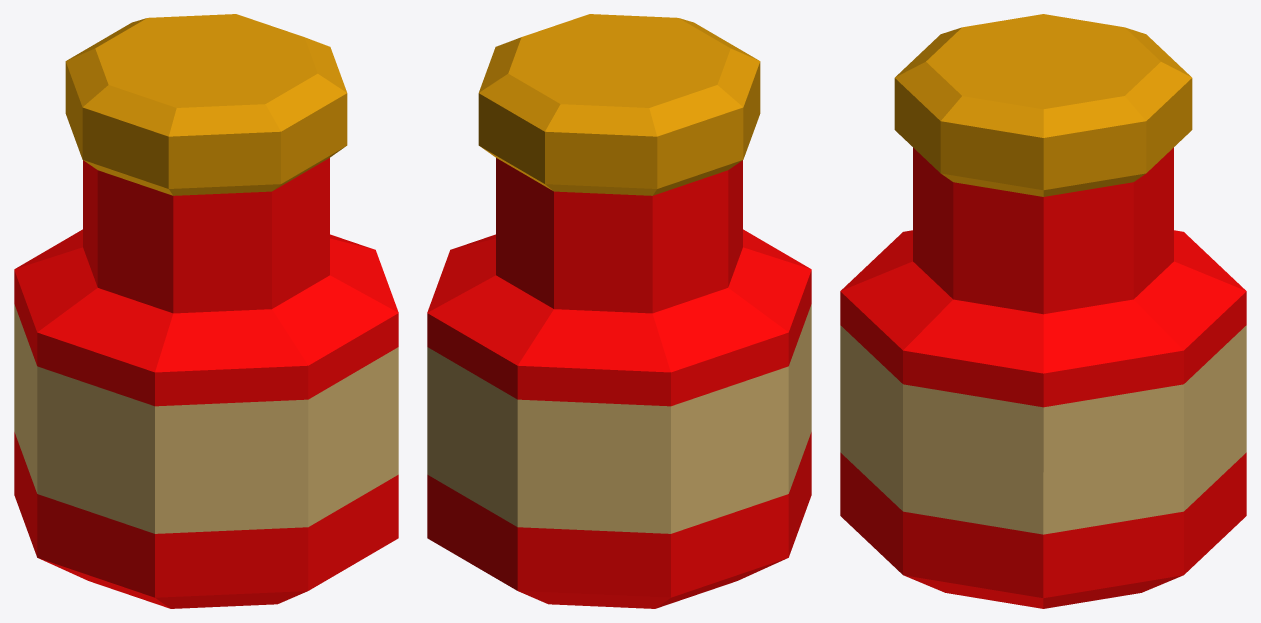
Rendered from RedPotion.fbx.
3 renders of one model, left to right at view 1: azimuth 30°, elevation 25°; view 2: azimuth 150°, elevation 25°; view 3: azimuth 270°, elevation 25°, orthographic.
Visible parts, largest first — view 1: Cube; view 2: Cube; view 3: Cube.
Boxes of the visible parts, x1,y1,x2,y2 form: Cube: (14,14,398,608); Cube: (427,14,811,608); Cube: (840,14,1246,608).
Size of the model in its own units: 278 by 385 by 289.
